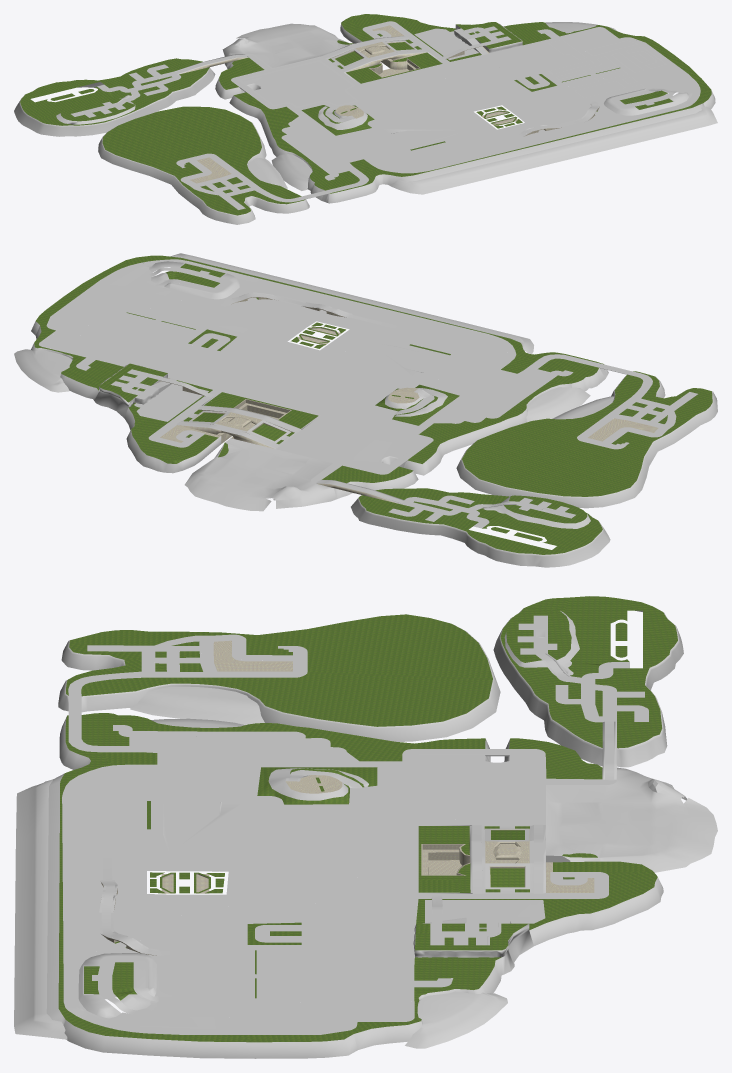
The model's file is map.fbx.
3 renders of one model, top to bottom at view 1: azimuth 30°, elevation 25°; view 2: azimuth 150°, elevation 25°; view 3: azimuth 270°, elevation 25°, orthographic. The views are drawn at different scales.
Parts seen in each view (by area): view 1: TerrainBorderRoad, TerrainFloor, road, sandMud, rock_borderNew; view 2: TerrainBorderRoad, TerrainFloor, road, rock_borderNew, sandMud; view 3: TerrainBorderRoad, TerrainFloor, road, sandMud, rock_borderNew.
Part boxes in pixels (<box>): TerrainBorderRoad: <box>71,21,700,209</box>; TerrainFloor: <box>20,14,711,215</box>; road: <box>71,22,699,209</box>; sandMud: <box>228,22,717,194</box>; rock_borderNew: <box>14,23,715,224</box>; TerrainBorderRoad: <box>39,259,697,528</box>; TerrainFloor: <box>34,255,712,554</box>; road: <box>41,260,696,527</box>; rock_borderNew: <box>31,261,717,567</box>; sandMud: <box>14,253,613,511</box>; TerrainBorderRoad: <box>62,615,648,1034</box>; TerrainFloor: <box>58,596,677,1042</box>; road: <box>65,615,646,1033</box>; sandMud: <box>14,686,717,1048</box>; rock_borderNew: <box>52,608,686,1058</box>.
Bounding box in the file's own units: 182298 × 4732 × 119741.
